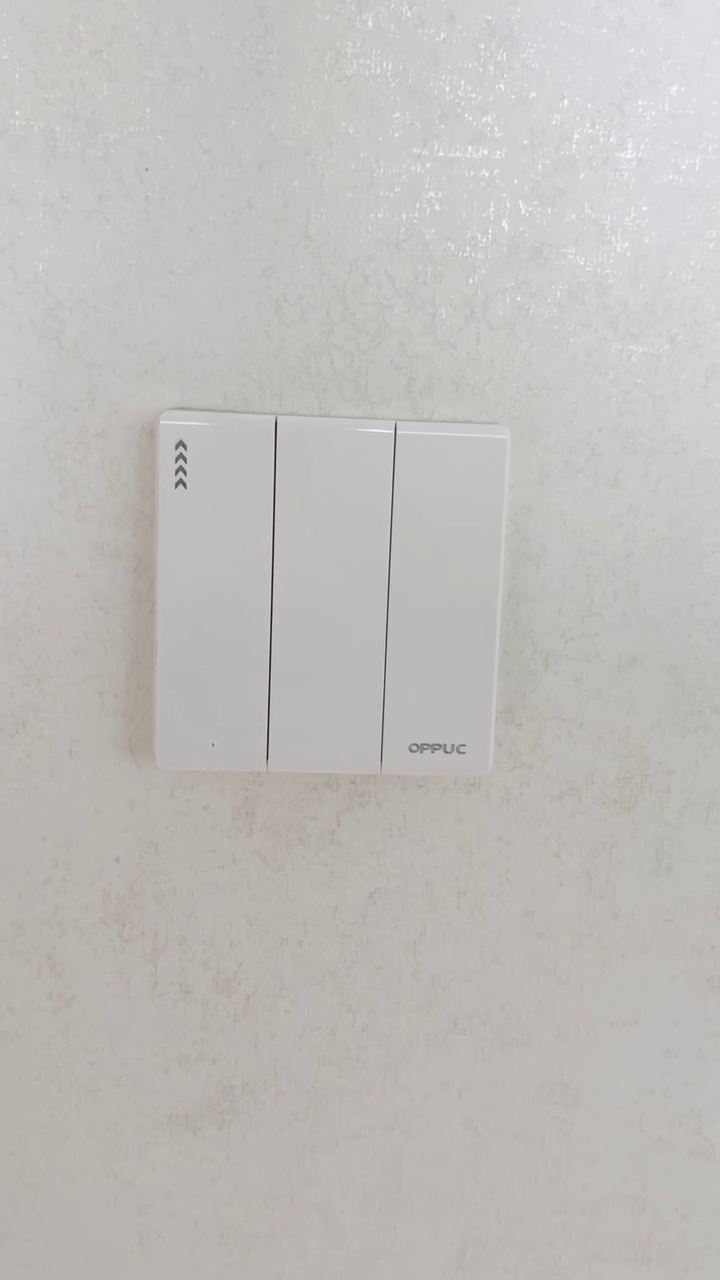button1: (388, 428, 504, 777), (275, 419, 386, 770), (159, 421, 271, 767)
